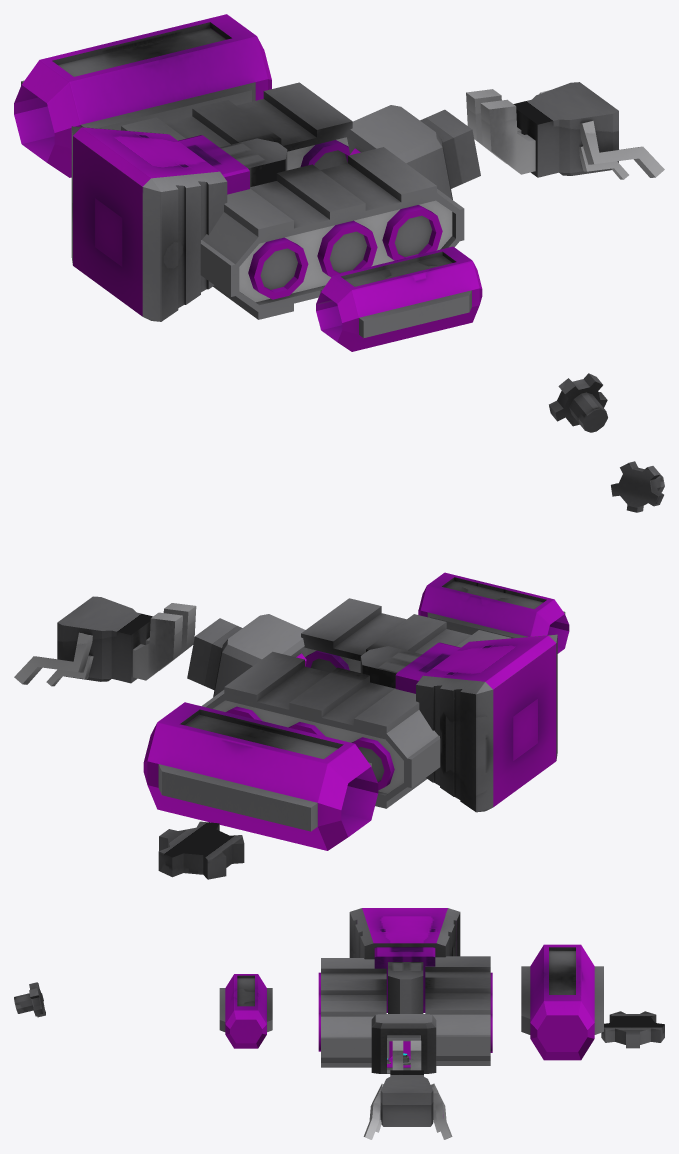
Rendered from Enemy2_Die37.obj.
3 renders of one model, top to bottom at view 1: azimuth 30°, elevation 25°; view 2: azimuth 150°, elevation 25°; view 3: azimuth 270°, elevation 25°, orthographic. The views are drawn at different scales.
Parts seen in each view (by area): view 1: Object006, Object013, Object011, Object014, Object010, Object012, Object008; view 2: Object011, Object006, Object013, Object010, Object014, Object012, Object009, Object008; view 3: Object006, Object011, Object013, Object010, Object014, Object012, Object009, Object008.
Part boxes in pixels (x1,y1,x2,y2): Object006: (121,82,464,319); Object013: (71,126,287,321); Object011: (14,14,271,177); Object014: (316,246,482,351); Object010: (466,82,664,179); Object012: (347,105,480,199); Object008: (549,373,607,432); Object011: (143,702,378,850); Object006: (201,598,510,808); Object013: (360,634,557,812); Object010: (14,596,196,686); Object014: (418,572,569,653); Object012: (187,614,307,697); Object009: (158,821,244,879); Object008: (611,461,664,512); Object006: (318,956,492,1067); Object011: (521,944,603,1060); Object013: (349,908,460,1013); Object010: (363,1040,452,1139); Object014: (219,974,272,1048); Object012: (371,1014,436,1073); Object009: (601,1011,664,1048); Object008: (14,982,45,1017).
Size of the model in its own units: 196 by 50.77 by 340.
